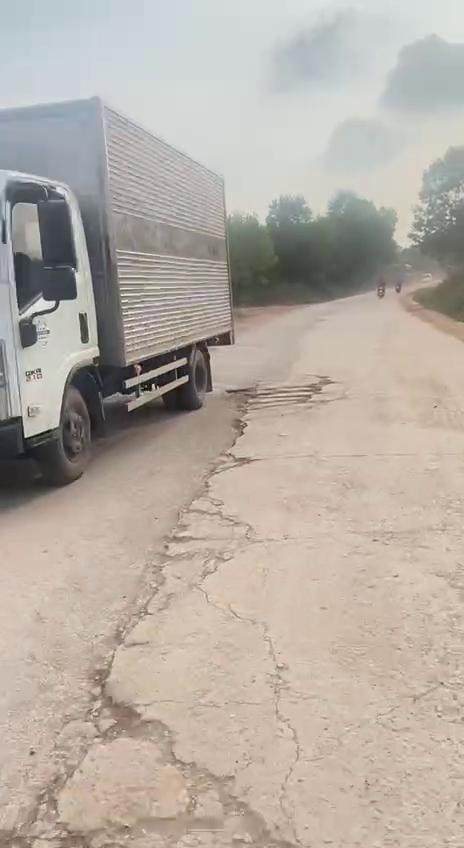pothole: (136, 767, 276, 848), (82, 668, 186, 762), (2, 764, 87, 848), (112, 566, 170, 651), (204, 443, 249, 479)
